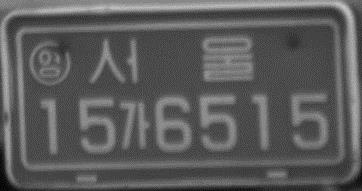1: (35, 96, 65, 155), (247, 92, 276, 150)
5: (288, 87, 331, 151), (196, 91, 239, 152), (75, 96, 119, 154)
6: (154, 93, 193, 155)
가: (116, 99, 152, 153)
서울_D: (86, 33, 257, 88)
영: (28, 40, 73, 86)
